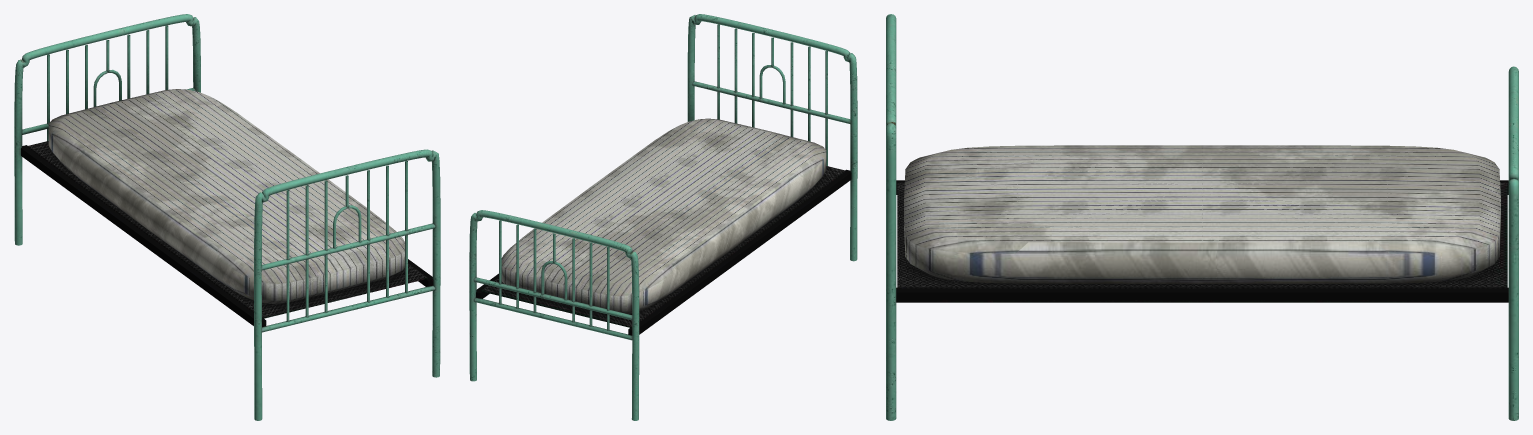
The model's file is bed_metal_web.glb.
The picture shows the model from 3 angles, left to right: view 1: azimuth 30°, elevation 25°; view 2: azimuth 150°, elevation 25°; view 3: azimuth 270°, elevation 25°; orthographic projection. The views are drawn at different scales.
Parts seen in each view (by area): view 1: BedMetal_Mesh; view 2: BedMetal_Mesh; view 3: BedMetal_Mesh.
Boxes of the visible parts, <box> form: BedMetal_Mesh: <box>14,14,440,420</box>; BedMetal_Mesh: <box>469,14,857,420</box>; BedMetal_Mesh: <box>886,14,1518,420</box>.
Size of the model in its own units: 0.8764 by 1.04 by 1.99.
Materials: 1 (1 with a texture image).
